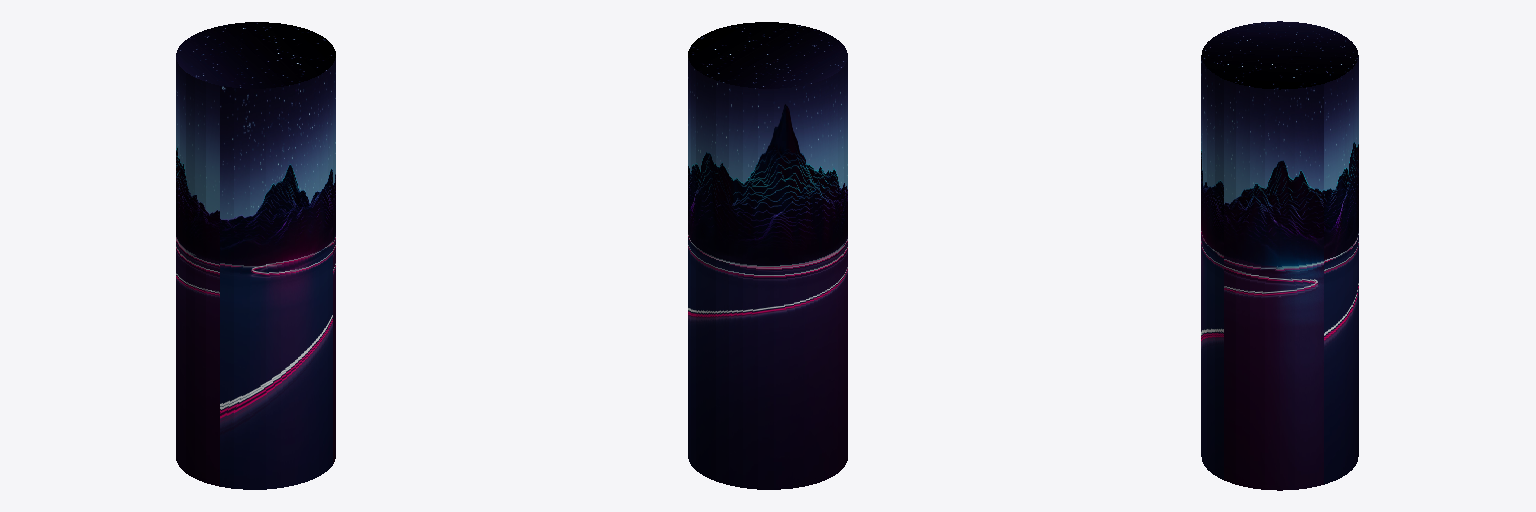
3 renders of one model, left to right at view 1: azimuth 30°, elevation 25°; view 2: azimuth 150°, elevation 25°; view 3: azimuth 270°, elevation 25°, orthographic.
Visible parts, largest first — view 1: Cylinder; view 2: Cylinder; view 3: Cylinder.
Boxes of the visible parts, x1,y1,x2,y2 form: Cylinder: [176, 22, 335, 489]; Cylinder: [688, 22, 847, 489]; Cylinder: [1201, 21, 1358, 490].
Bounding box in the file's own units: 1.1 × 3.03 × 1.08.
Materials: 1 (1 with a texture image).